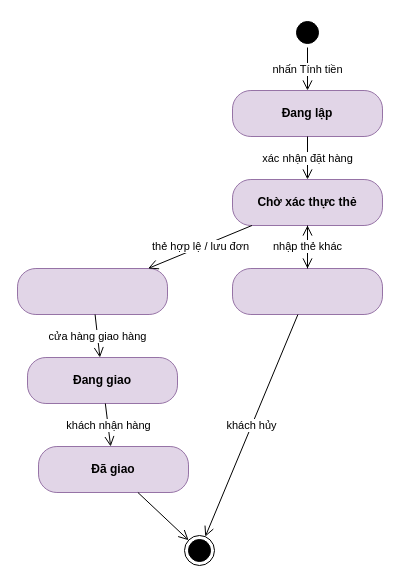
Image size: 400x583. Some labels were removed from this diagram. Each missing label, with the box of its shape:
Thanh toán thất bại: (232, 268, 382, 314)
Đã đặt: (16, 268, 168, 314)
